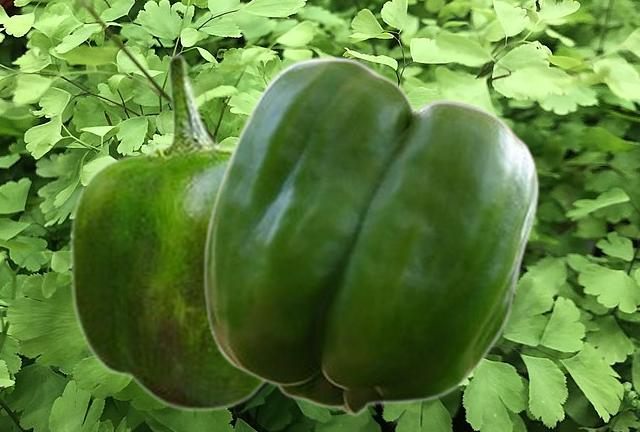bell_pepper: (202, 55, 538, 415), (68, 52, 267, 412)
